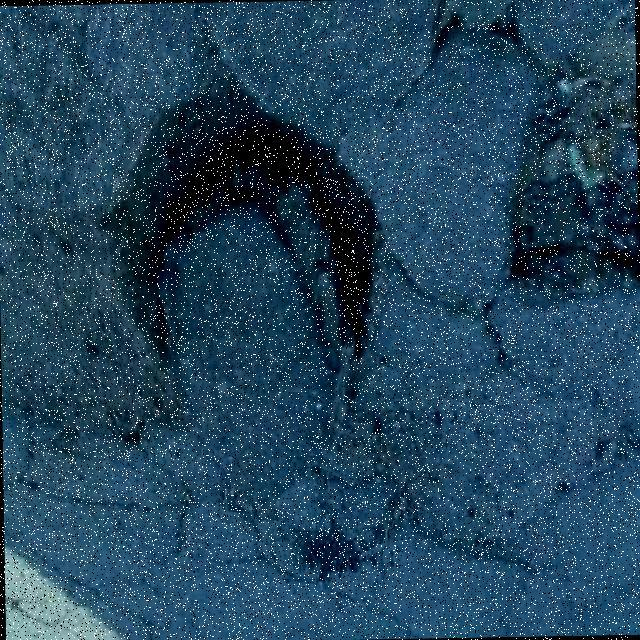Pothole: (105, 17, 386, 436), (503, 22, 639, 303)
